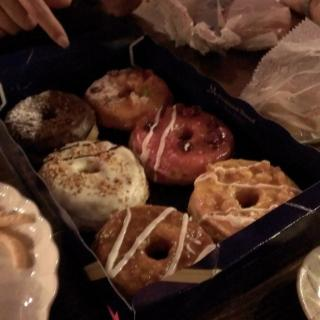Doughnut: (10, 67, 294, 297)
